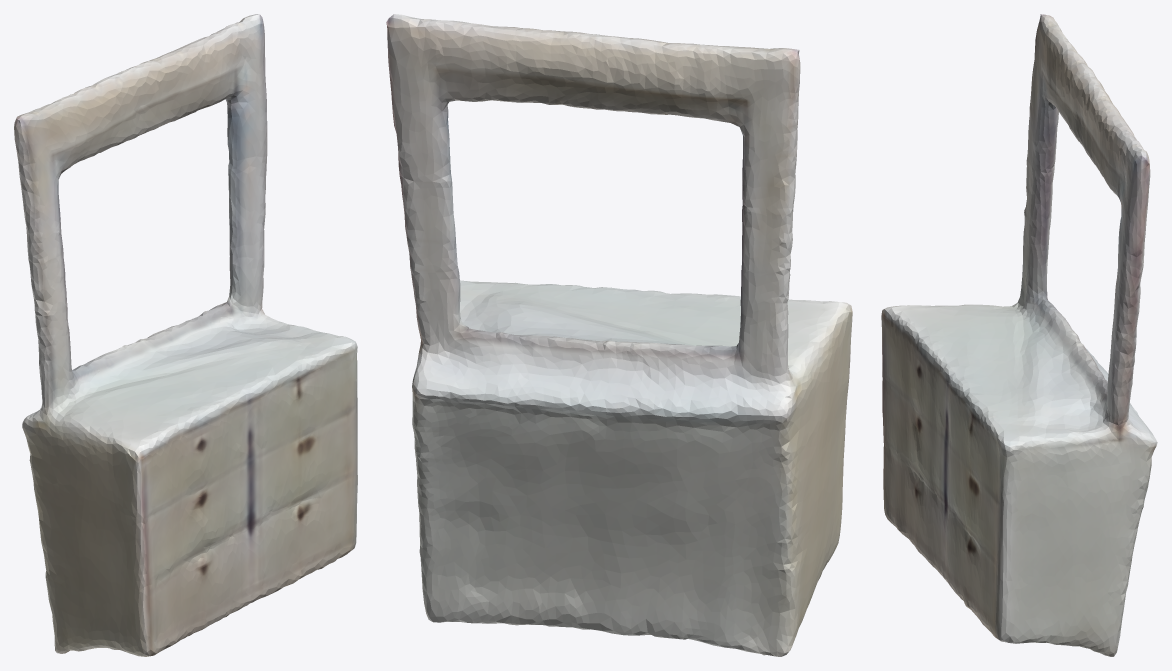
Rendered from SESSION_1709431540_7920988_preview.gltf.
3 renders of one model, left to right at view 1: azimuth 30°, elevation 25°; view 2: azimuth 150°, elevation 25°; view 3: azimuth 270°, elevation 25°, orthographic. The views are drawn at different scales.
Visible parts, largest first — view 1: output; view 2: output; view 3: output.
Boxes of the visible parts, x1,y1,x2,y2 form: output: (14,14,357,656); output: (386,14,852,656); output: (881,14,1157,656).
Size of the model in its own units: 0.819 by 1.29 by 0.6211.
Materials: 1 (1 with a texture image).
